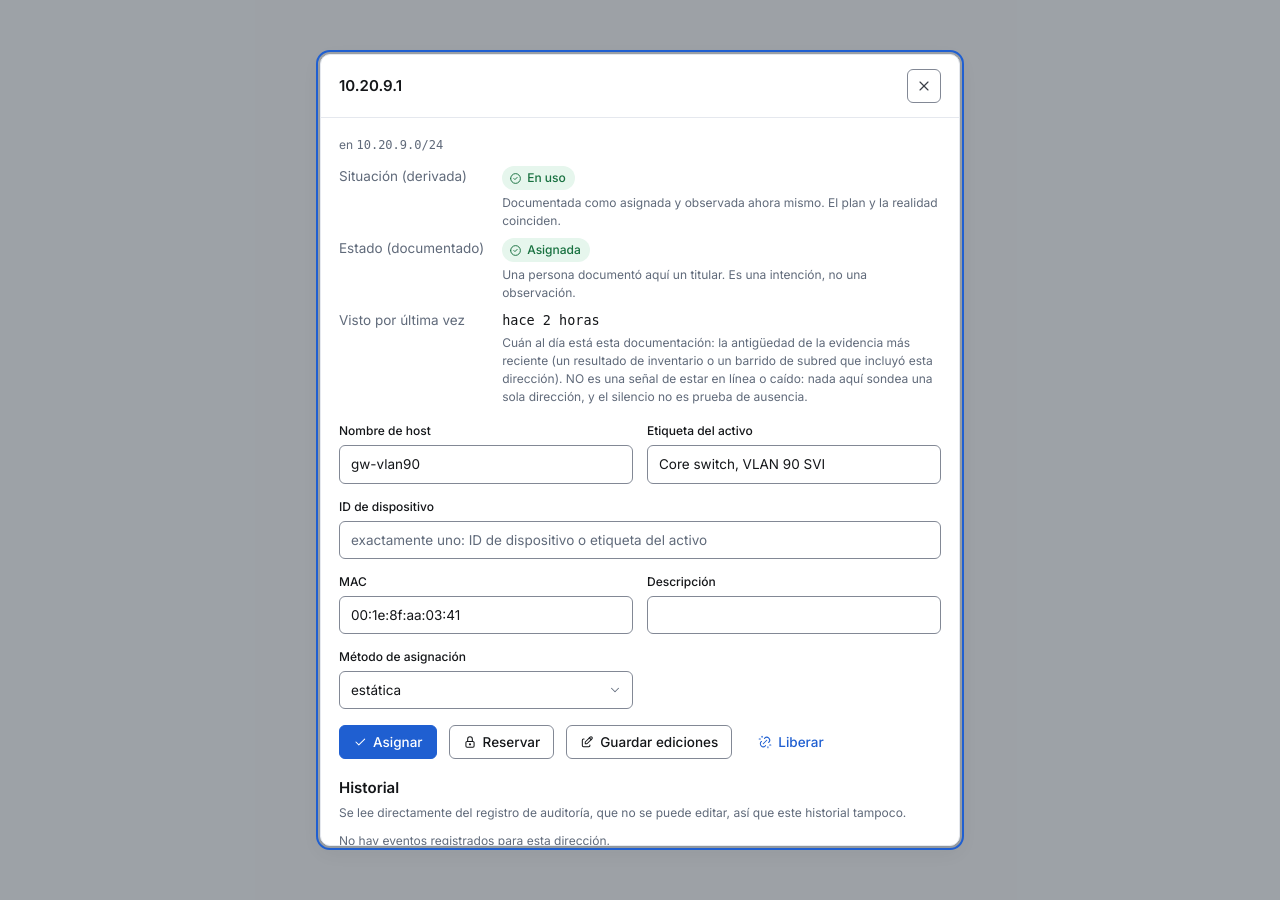
Test: an address's dialog in Spanish › says there is no history, and a release that failed
This screenshot has width=1280, height=900.
Expected: the list item "No hay eventos registrados para esta dirección." is shown, left=339, top=833, right=610, bottom=845
Click the button "Liberar" at (791, 742), box left=744, top=725, right=838, bottom=759
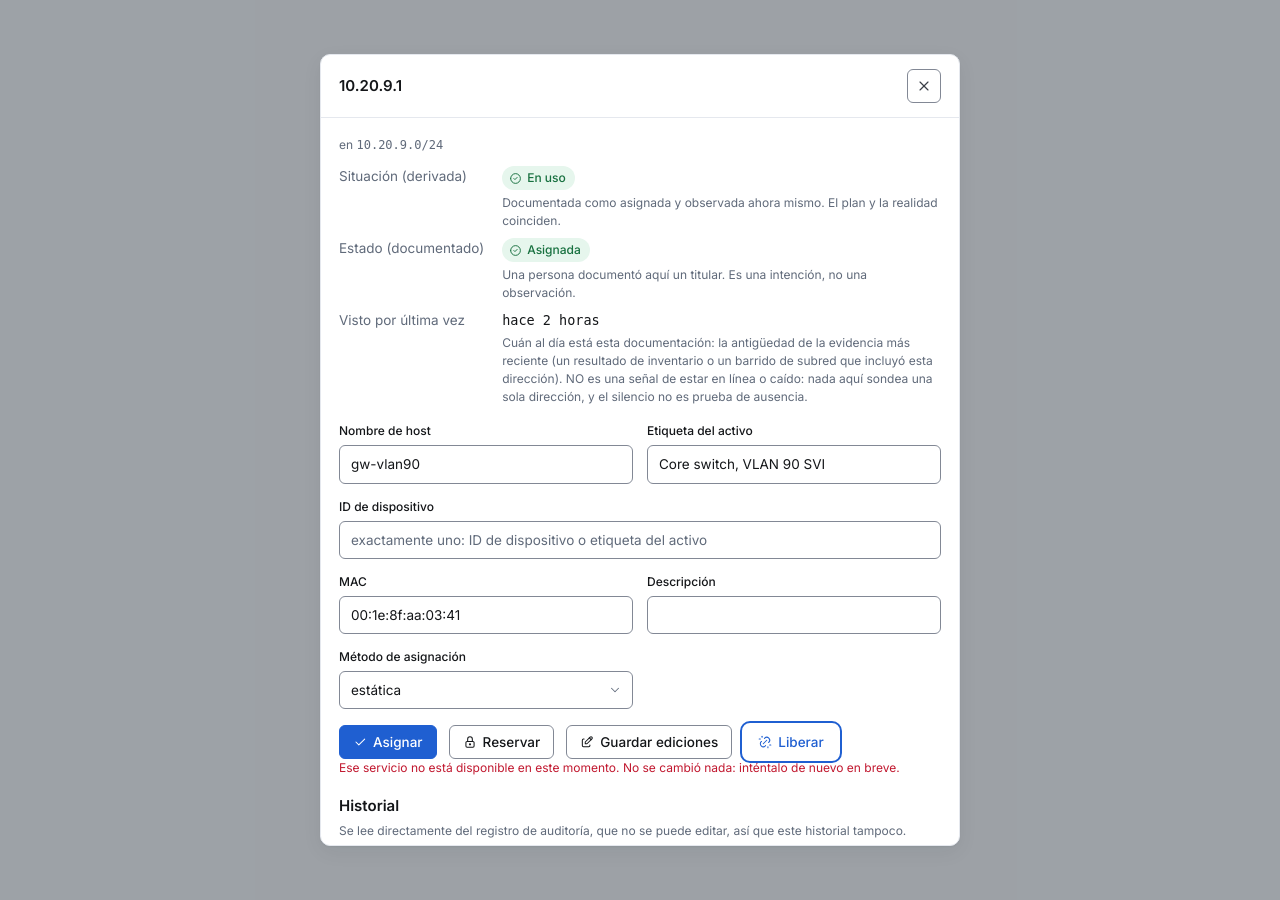
Expected: the message is shown, left=339, top=759, right=941, bottom=777
